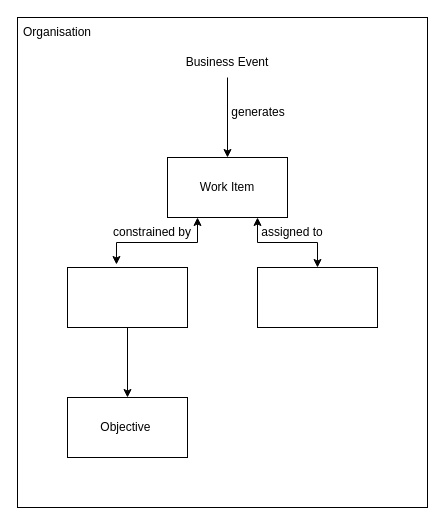
Image size: 445x525. Some labels were removed from this diagram. Here are the shapes that lost their labels. From the top down, the centre of each, then its label:
(x=127, y=297): Constraint
(x=317, y=297): Resource
